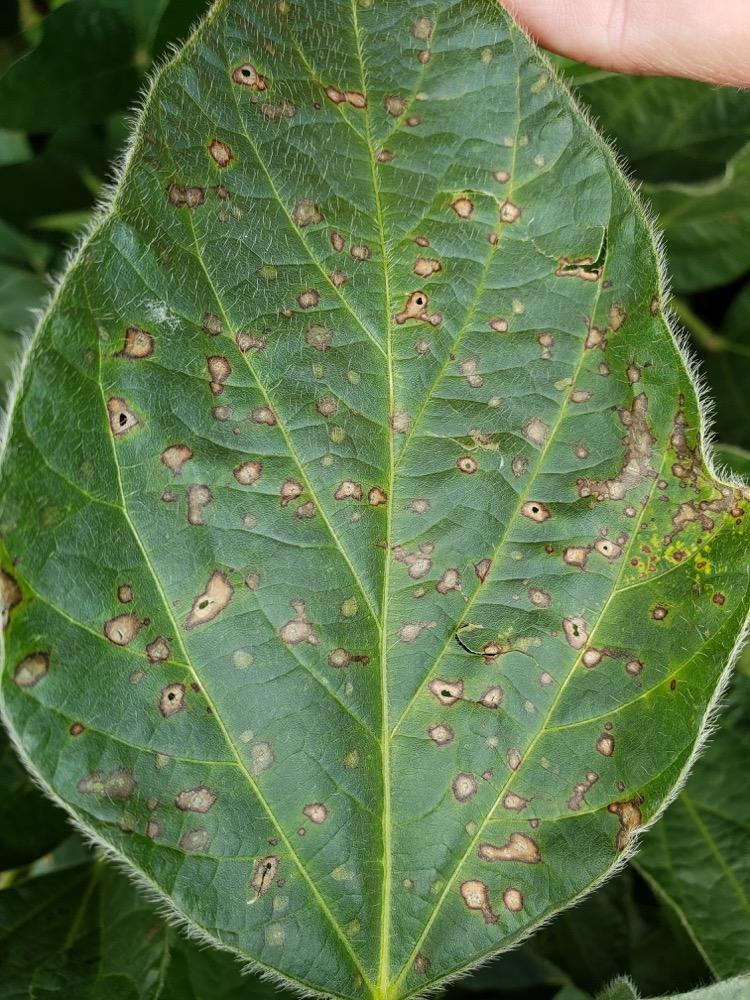black-spot: (139, 170, 623, 810)
